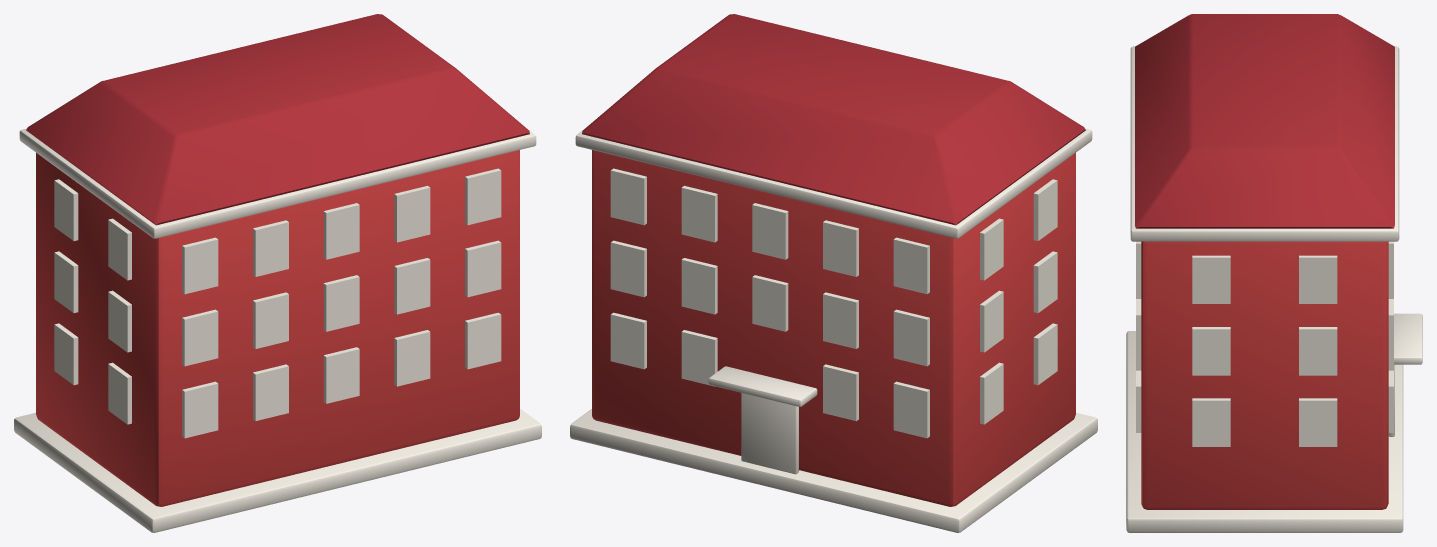
Rendered from Hotel.fbx.
3 views of the same model, side by side, from view 1: azimuth 30°, elevation 25°; view 2: azimuth 150°, elevation 25°; view 3: azimuth 270°, elevation 25° (orthographic).
Visible parts, largest first — view 1: Body.001, Roof.001, Trim.001; view 2: Body.001, Trim.001, Roof.001; view 3: Body.001, Roof.001, Trim.001.
Part boxes in pixels (box(x1,y1,x2,y2)): Body.001: box(36, 150, 519, 506); Roof.001: box(26, 14, 529, 225); Trim.001: box(14, 128, 541, 532); Body.001: box(592, 150, 1075, 506); Trim.001: box(570, 128, 1097, 532); Roof.001: box(582, 14, 1085, 225); Body.001: box(1141, 241, 1388, 509); Roof.001: box(1135, 14, 1394, 228); Trim.001: box(1126, 46, 1422, 532).
Size of the model in its own units: 2.1 by 1.86 by 1.39.
